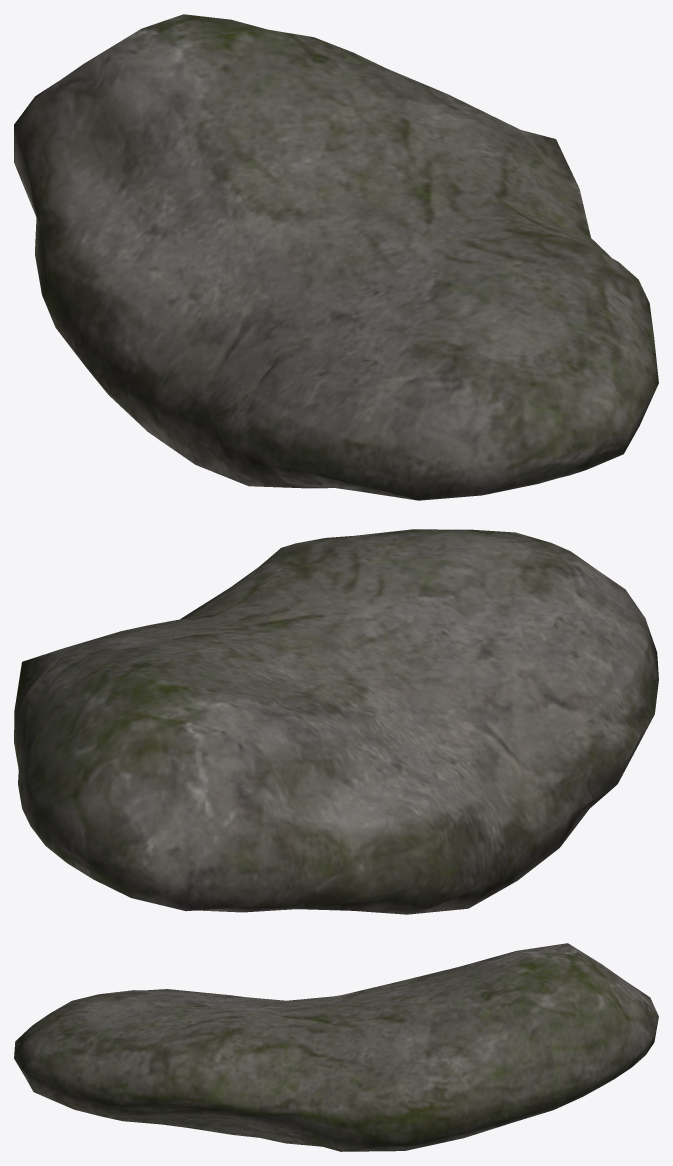
Rendered from rock1.glb.
3 renders of one model, top to bottom at view 1: azimuth 30°, elevation 25°; view 2: azimuth 150°, elevation 25°; view 3: azimuth 270°, elevation 25°, orthographic. The views are drawn at different scales.
Parts seen in each view (by area): view 1: rock1_low_rocks_texture_0; view 2: rock1_low_rocks_texture_0; view 3: rock1_low_rocks_texture_0.
Part boxes in pixels (x1,y1,x2,y2): rock1_low_rocks_texture_0: [14, 14, 658, 500]; rock1_low_rocks_texture_0: [14, 529, 658, 914]; rock1_low_rocks_texture_0: [14, 943, 658, 1151].
Size of the model in its own units: 1.12 by 0.594 by 1.9.
1 material, 1 textured.
